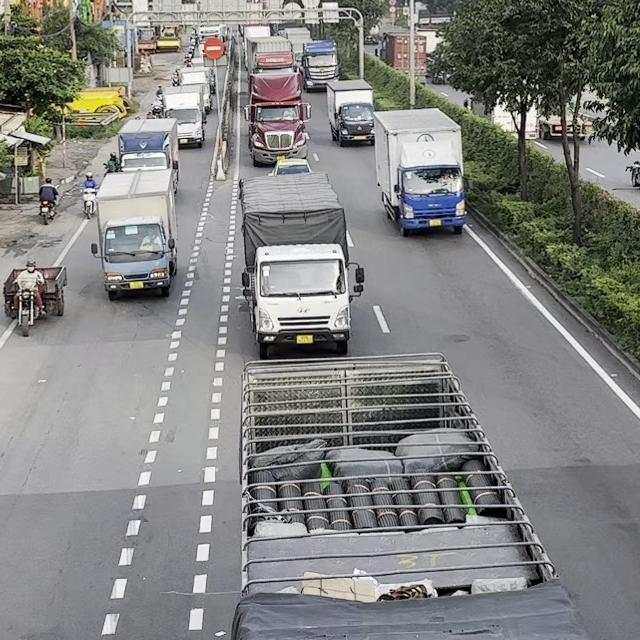car: (268, 157, 312, 175)
motorcycle: (3, 263, 67, 337), (13, 287, 38, 336), (38, 195, 58, 224), (81, 187, 97, 219), (149, 97, 164, 118), (102, 160, 118, 175), (171, 73, 180, 86), (183, 55, 191, 67)
truck: (232, 351, 591, 639), (238, 170, 364, 357), (373, 106, 466, 237), (90, 167, 178, 300), (244, 67, 311, 167), (116, 117, 180, 183), (325, 78, 375, 146), (160, 91, 205, 148), (300, 39, 340, 91), (177, 67, 212, 114)
